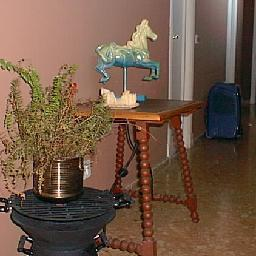Otro Obstaculo: (209, 85, 242, 142)
